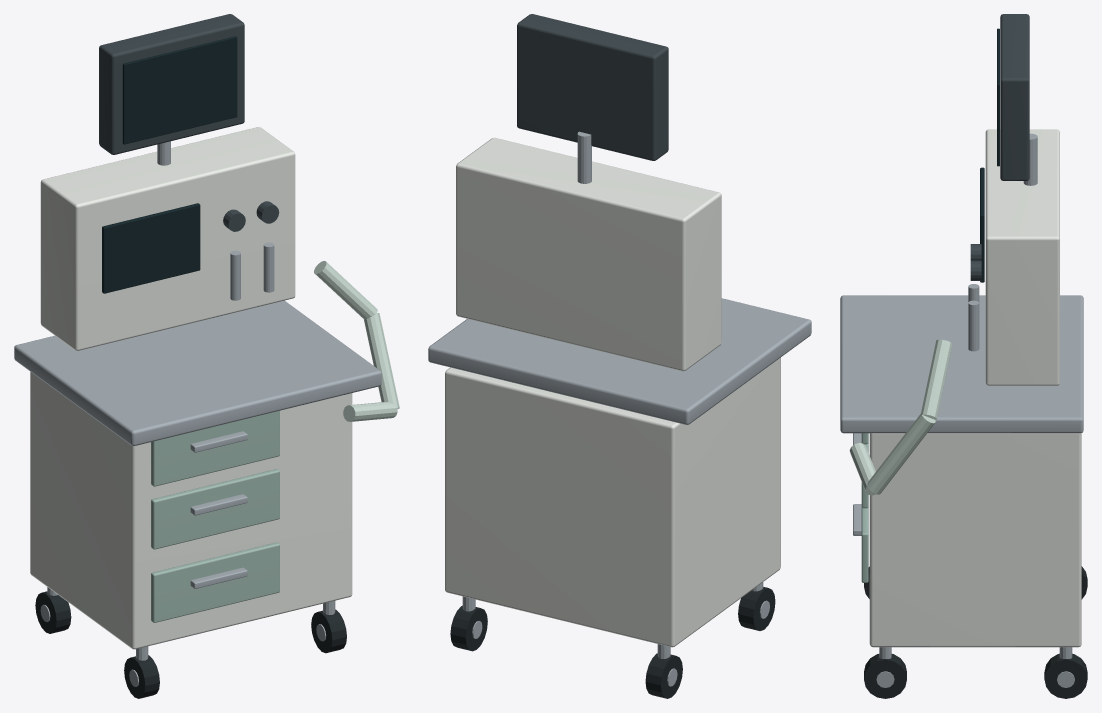
File: anaesthesia_unit.fbx
3 views of the same model, side by side, from view 1: azimuth 30°, elevation 25°; view 2: azimuth 150°, elevation 25°; view 3: azimuth 270°, elevation 25° (orthographic). The views are drawn at different scales.
Parts seen in each view (by area): view 1: EQ_anaesthesia_unit_M_Ivory, EQ_anaesthesia_unit_M_SteelBrushed, EQ_anaesthesia_unit_M_Sage, EQ_anaesthesia_unit_M_ScreenOff, EQ_anaesthesia_unit_M_PlasticGrey, EQ_anaesthesia_unit_M_Curtain, EQ_anaesthesia_unit_M_RubberBlack; view 2: EQ_anaesthesia_unit_M_Ivory, EQ_anaesthesia_unit_M_SteelBrushed, EQ_anaesthesia_unit_M_PlasticGrey, EQ_anaesthesia_unit_M_RubberBlack; view 3: EQ_anaesthesia_unit_M_Ivory, EQ_anaesthesia_unit_M_SteelBrushed, EQ_anaesthesia_unit_M_PlasticGrey, EQ_anaesthesia_unit_M_Curtain, EQ_anaesthesia_unit_M_RubberBlack, EQ_anaesthesia_unit_M_ScreenOff, EQ_anaesthesia_unit_M_Sage.
Boxes of the visible parts, <box> form: EQ_anaesthesia_unit_M_Ivory: <box>30,127,352,649</box>; EQ_anaesthesia_unit_M_SteelBrushed: <box>14,141,381,686</box>; EQ_anaesthesia_unit_M_Sage: <box>151,410,279,622</box>; EQ_anaesthesia_unit_M_ScreenOff: <box>102,36,237,293</box>; EQ_anaesthesia_unit_M_PlasticGrey: <box>99,14,279,231</box>; EQ_anaesthesia_unit_M_Curtain: <box>314,261,399,421</box>; EQ_anaesthesia_unit_M_RubberBlack: <box>35,591,346,698</box>; EQ_anaesthesia_unit_M_Ivory: <box>445,137,780,647</box>; EQ_anaesthesia_unit_M_SteelBrushed: <box>428,131,811,686</box>; EQ_anaesthesia_unit_M_PlasticGrey: <box>517,14,668,160</box>; EQ_anaesthesia_unit_M_RubberBlack: <box>450,587,775,698</box>; EQ_anaesthesia_unit_M_Ivory: <box>869,129,1081,647</box>; EQ_anaesthesia_unit_M_SteelBrushed: <box>840,133,1083,687</box>; EQ_anaesthesia_unit_M_PlasticGrey: <box>970,14,1029,280</box>; EQ_anaesthesia_unit_M_Curtain: <box>849,339,952,495</box>; EQ_anaesthesia_unit_M_RubberBlack: <box>864,566,1087,698</box>; EQ_anaesthesia_unit_M_ScreenOff: <box>980,28,999,282</box>; EQ_anaesthesia_unit_M_Sage: <box>861,433,868,582</box>.
Bounding box in the file's own units: 0.8668 × 1.69 × 0.63.
